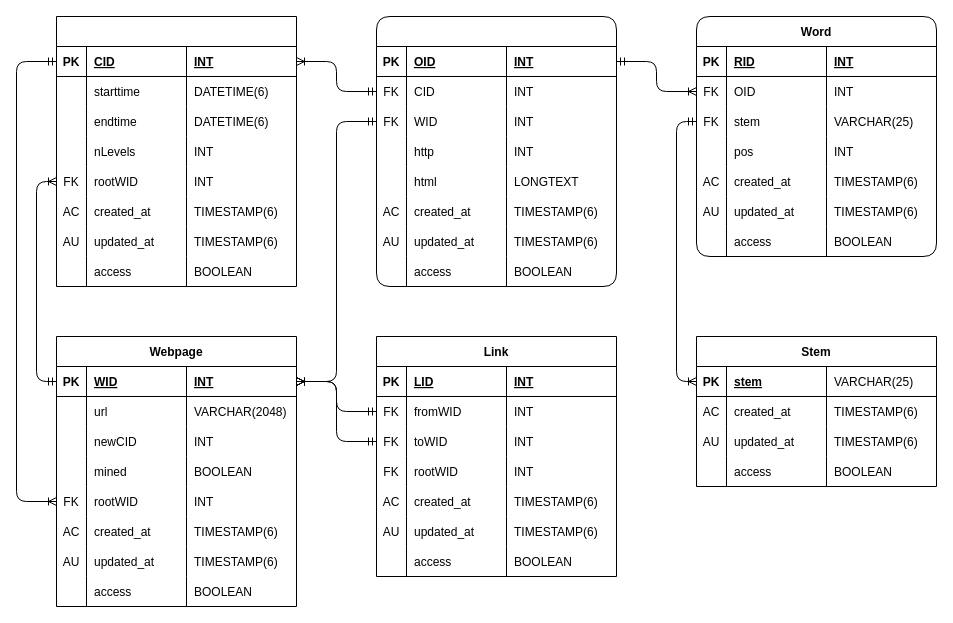
Some shapes in this 953 by 623 pixel diagram are drawn without their labels. The box of each missing label's shape, as (x1, y1, x2, y2) in pixels:
Crawl: (56, 16, 296, 286)
Observation: (376, 16, 616, 286)
